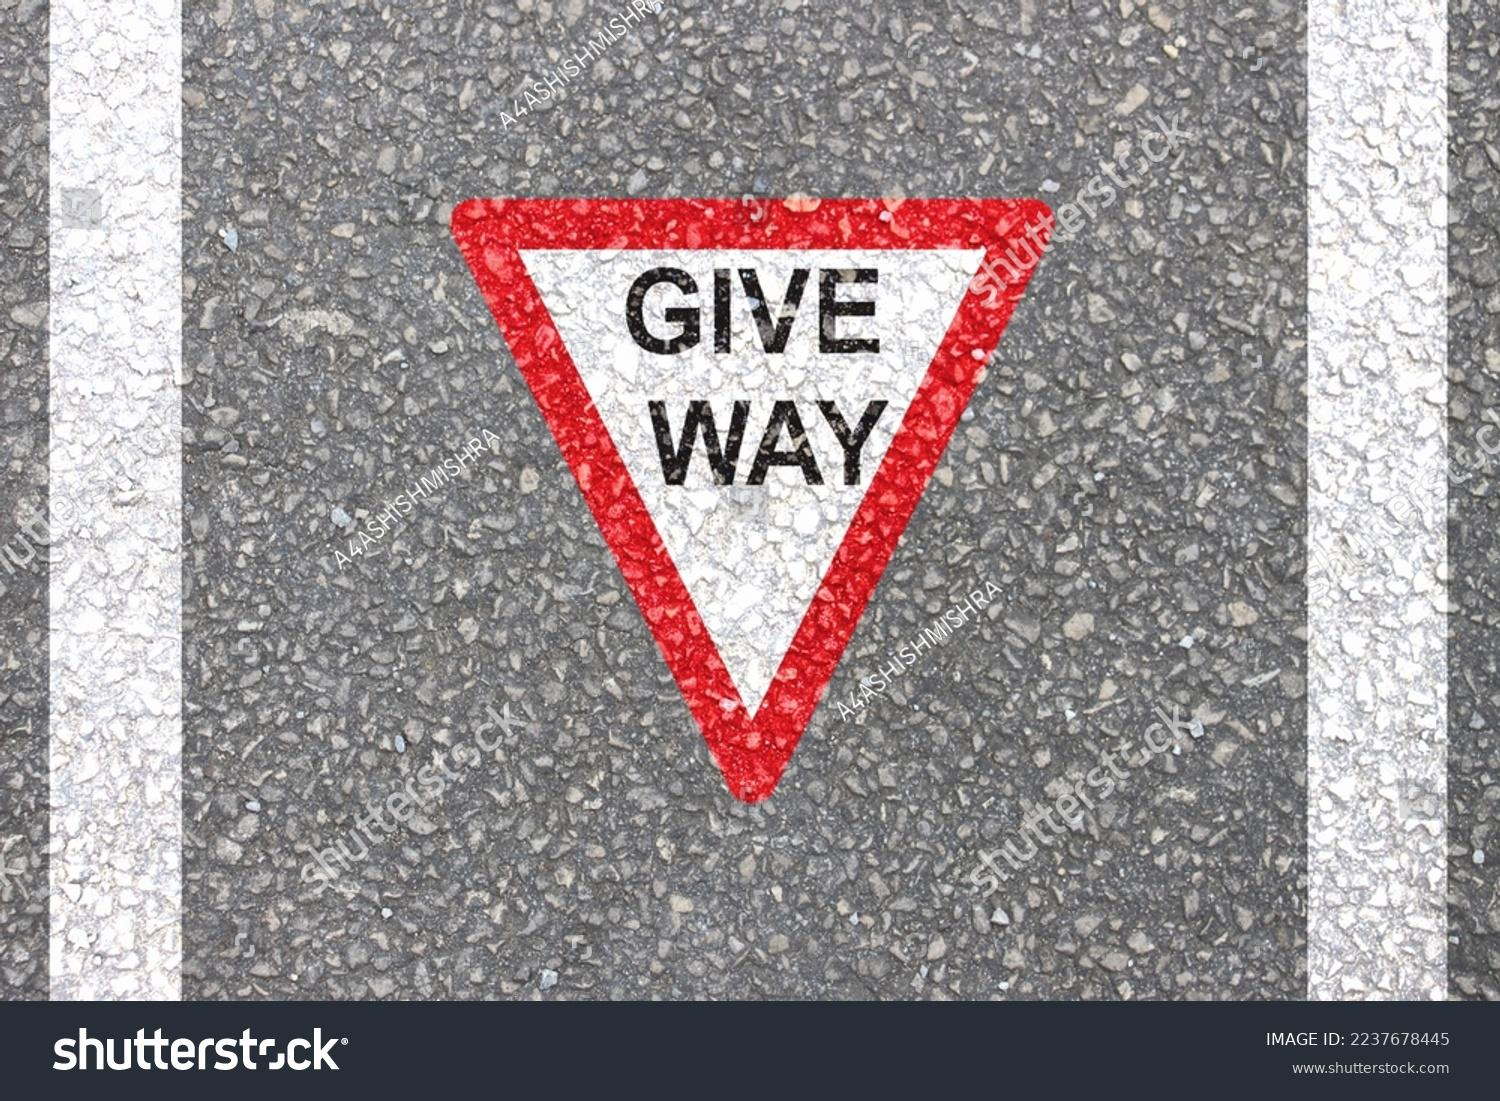Give Way: (396, 146, 1099, 876)
